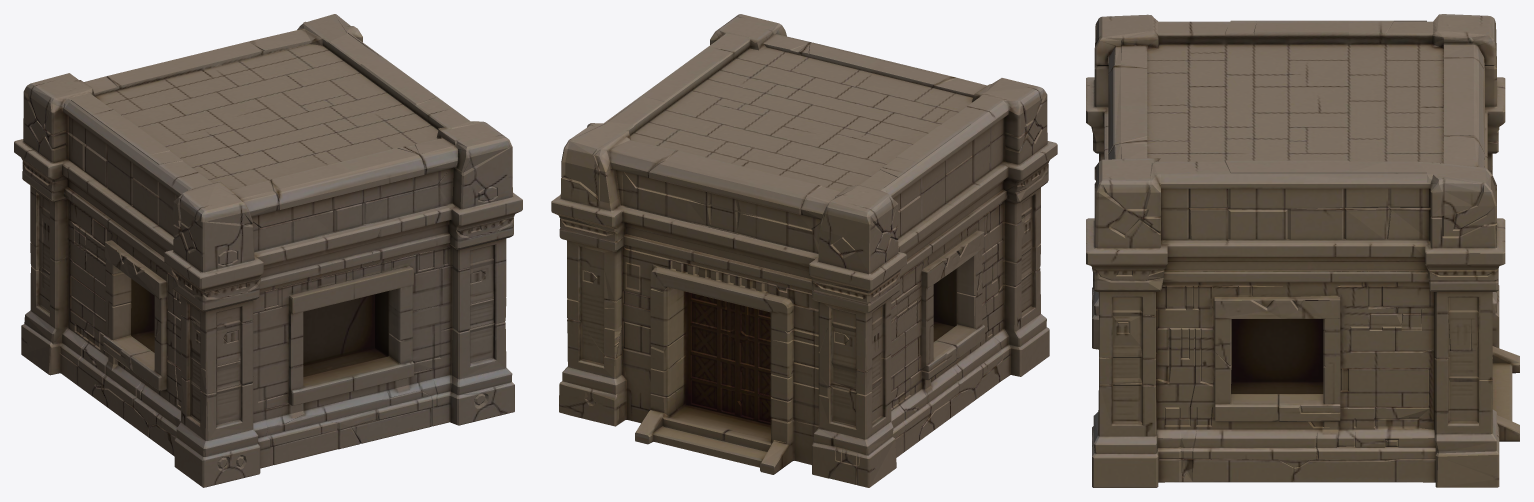
File: Templo.glb
3 renders of one model, left to right at view 1: azimuth 30°, elevation 25°; view 2: azimuth 150°, elevation 25°; view 3: azimuth 270°, elevation 25°, orthographic. The views are drawn at different scales.
Parts seen in each view (by area): view 1: tripo_node_503a740d-8c07-4e66-92ba-9e45e555f162; view 2: tripo_node_503a740d-8c07-4e66-92ba-9e45e555f162; view 3: tripo_node_503a740d-8c07-4e66-92ba-9e45e555f162.
Part boxes in pixels (x1,y1,x2,y2): tripo_node_503a740d-8c07-4e66-92ba-9e45e555f162: (14,14,522,487); tripo_node_503a740d-8c07-4e66-92ba-9e45e555f162: (551,14,1057,487); tripo_node_503a740d-8c07-4e66-92ba-9e45e555f162: (1086,14,1519,487).
Size of the model in its own units: 4.46 by 3.64 by 4.64.
1 material, 1 textured.
